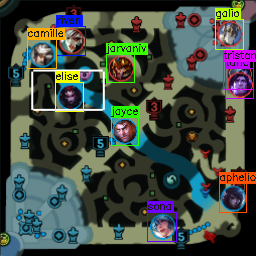aphelios: (220, 185, 245, 210)
camille: (29, 42, 54, 66)
elise: (56, 84, 82, 107)
galio: (217, 21, 241, 46)
jarvaniv: (107, 56, 134, 81)
jayce: (112, 119, 137, 144)
riven: (58, 28, 84, 53)
sona: (150, 213, 175, 238)
taric: (227, 73, 252, 97)
tristana: (226, 62, 249, 86)
